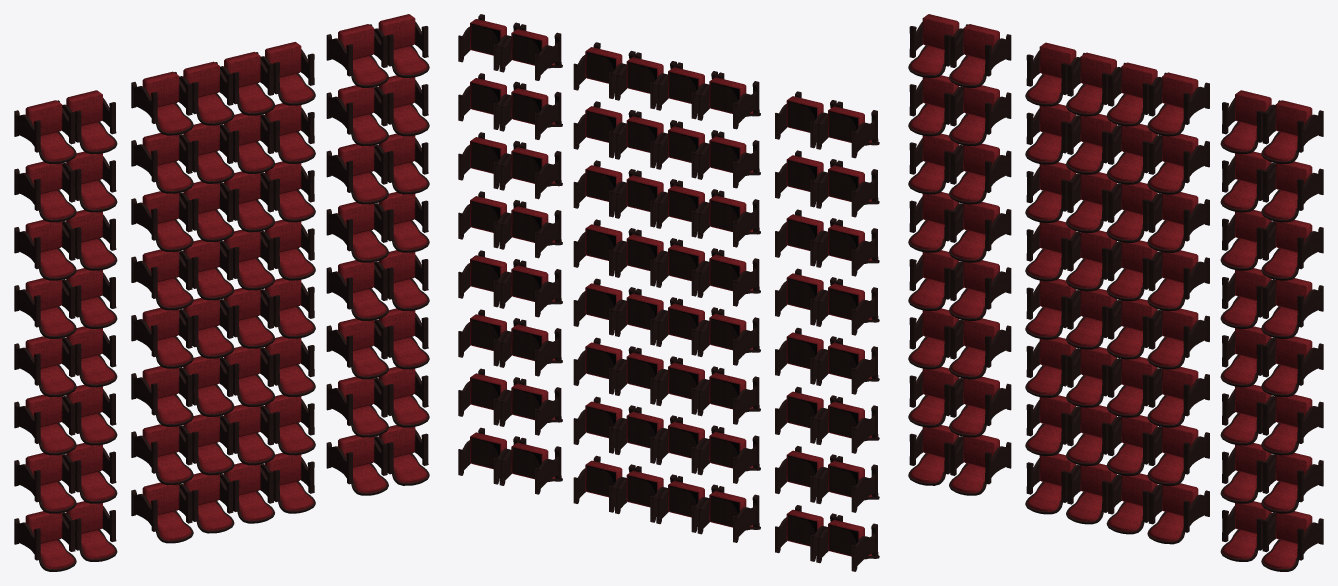
Rendered from TheatreChairs.obj.
The picture shows the model from 3 angles, left to right: view 1: azimuth 30°, elevation 25°; view 2: azimuth 150°, elevation 25°; view 3: azimuth 330°, elevation 25°; orthographic projection.
Visible parts, largest first — view 1: Cube.001_Cube; view 2: Cube.001_Cube; view 3: Cube.001_Cube.
Part boxes in pixels (x1=…): Cube.001_Cube: x1=14, y1=14, x2=429, y2=571; Cube.001_Cube: x1=458, y1=14, x2=879, y2=571; Cube.001_Cube: x1=908, y1=14, x2=1323, y2=571.
Size of the model in its own units: 80.51 by 88.55 by 10.88.
3 materials, 3 textured.
